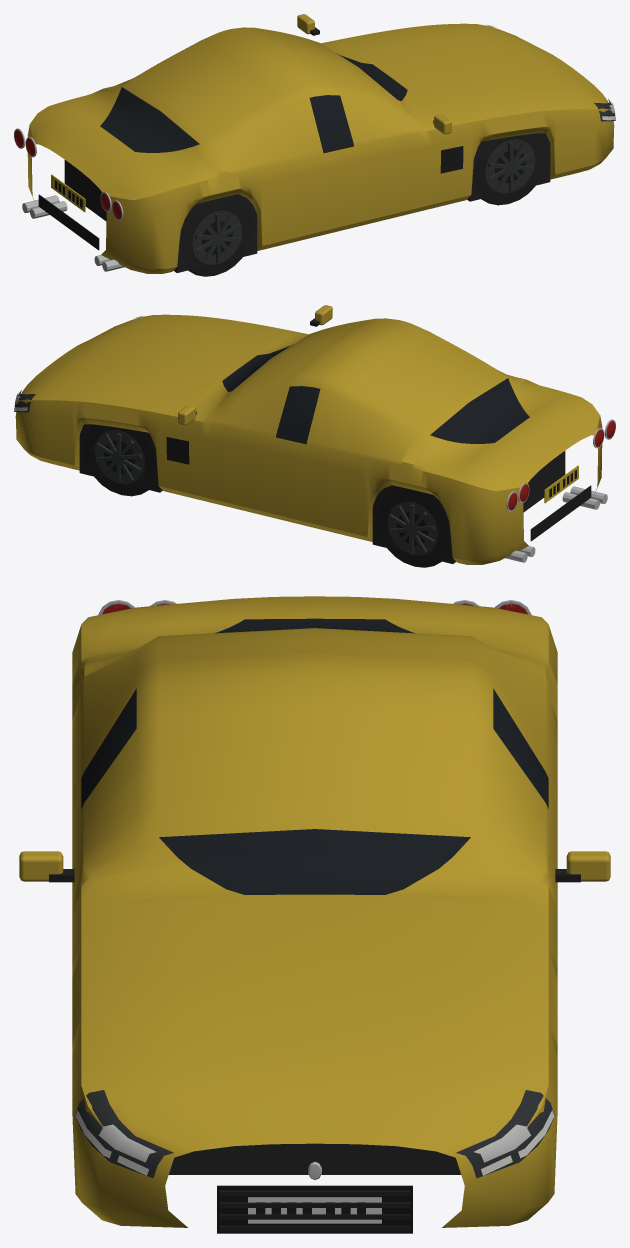
File: SM_Prop_parked_car_111.glb
The picture shows the model from 3 angles, top to bottom: view 1: azimuth 30°, elevation 25°; view 2: azimuth 150°, elevation 25°; view 3: azimuth 270°, elevation 25°; orthographic projection. The views are drawn at different scales.
Visible parts, largest first — view 1: SM_Prop_parked_car_111; view 2: SM_Prop_parked_car_111; view 3: SM_Prop_parked_car_111.
Part boxes in pixels (x1=…): SM_Prop_parked_car_111: x1=14, y1=14, x2=615, y2=276; SM_Prop_parked_car_111: x1=14, y1=305, x2=615, y2=567; SM_Prop_parked_car_111: x1=19, y1=596, x2=610, y2=1233.
Size of the model in its own units: 4.56 by 1.33 by 2.29.
